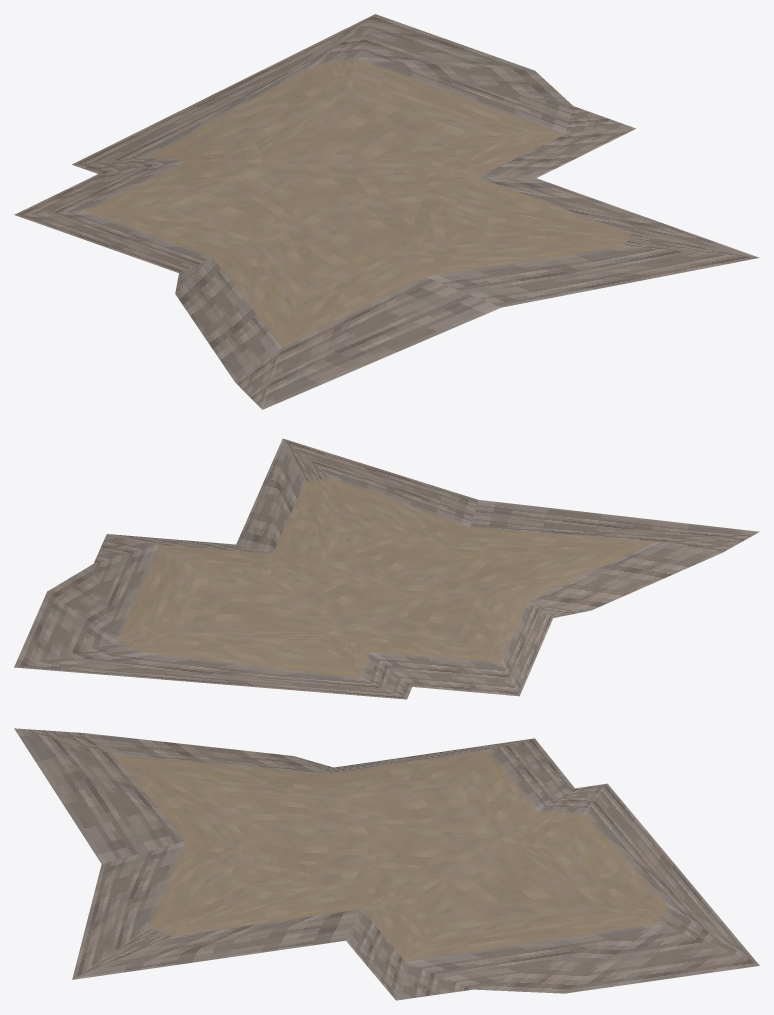
Rendered from pir_m_bld_frt_kingsheadMid_interior_footprint.fbx.
The picture shows the model from 3 angles, top to bottom: view 1: azimuth 30°, elevation 25°; view 2: azimuth 150°, elevation 25°; view 3: azimuth 270°, elevation 25°; orthographic projection. The views are drawn at different scales.
Parts seen in each view (by area): view 1: footprint; view 2: footprint; view 3: footprint.
Part boxes in pixels (left/top/right/bottom): footprint: left=14, top=14, right=759, bottom=409; footprint: left=14, top=438, right=759, bottom=699; footprint: left=14, top=728, right=759, bottom=1000.
Size of the model in its own units: 41066 by 709 by 47403.
Materials: 2 (2 with a texture image).
